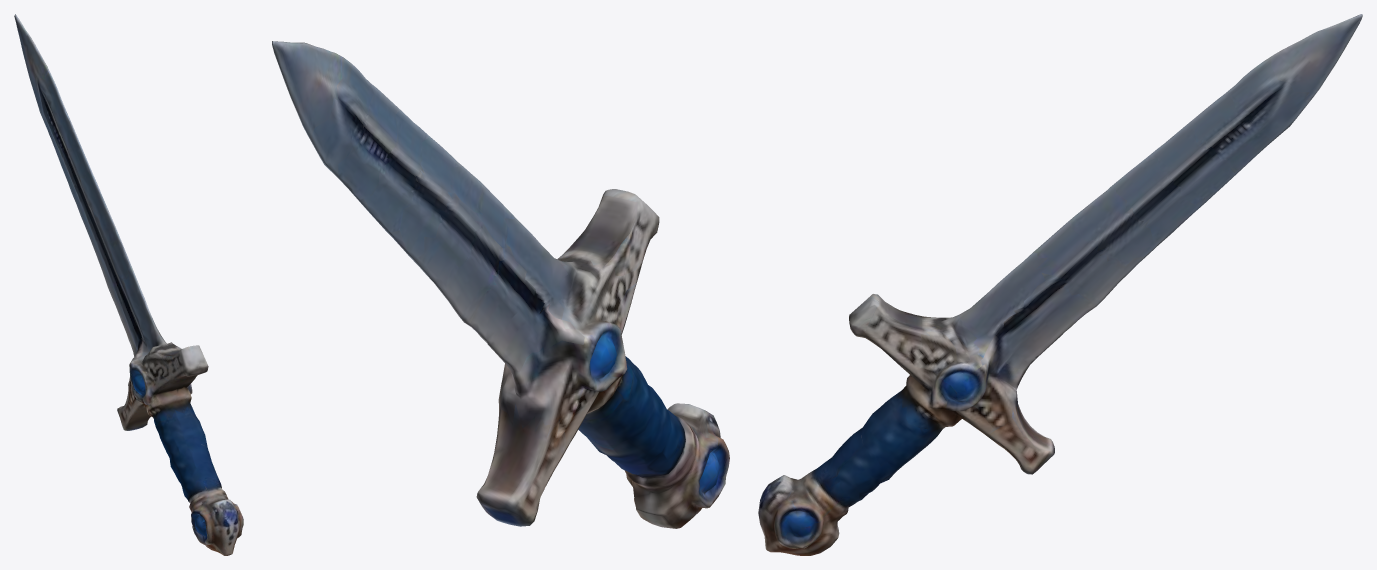
The model's file is weap_steel.glb.
3 views of the same model, side by side, from view 1: azimuth 30°, elevation 25°; view 2: azimuth 150°, elevation 25°; view 3: azimuth 270°, elevation 25° (orthographic). The views are drawn at different scales.
Visible parts, largest first — view 1: tripo_node_25512df5-d33e-4d74-b652-3af935000e53; view 2: tripo_node_25512df5-d33e-4d74-b652-3af935000e53; view 3: tripo_node_25512df5-d33e-4d74-b652-3af935000e53.
Boxes of the visible parts, bbox=[...] form: tripo_node_25512df5-d33e-4d74-b652-3af935000e53: bbox=[14, 14, 243, 555]; tripo_node_25512df5-d33e-4d74-b652-3af935000e53: bbox=[272, 41, 729, 528]; tripo_node_25512df5-d33e-4d74-b652-3af935000e53: bbox=[758, 14, 1362, 555].
Bounding box in the file's own units: 0.0463 × 0.35 × 0.3552.
Materials: 1 (1 with a texture image).
